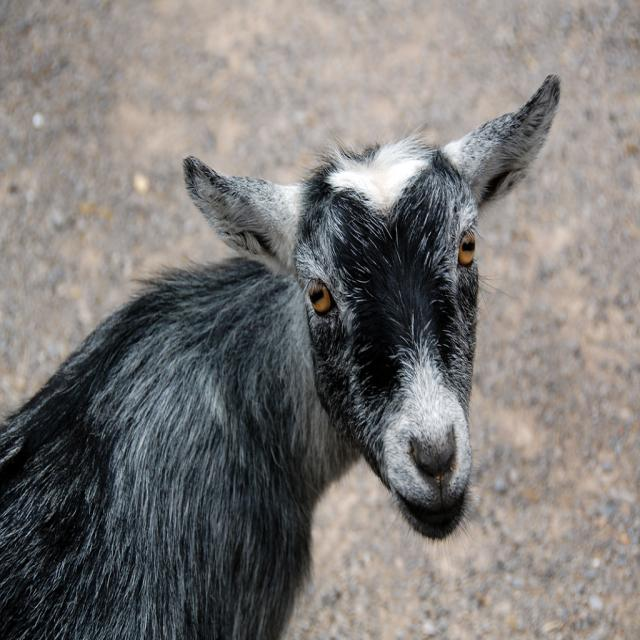Goat: (0, 75, 560, 639)
